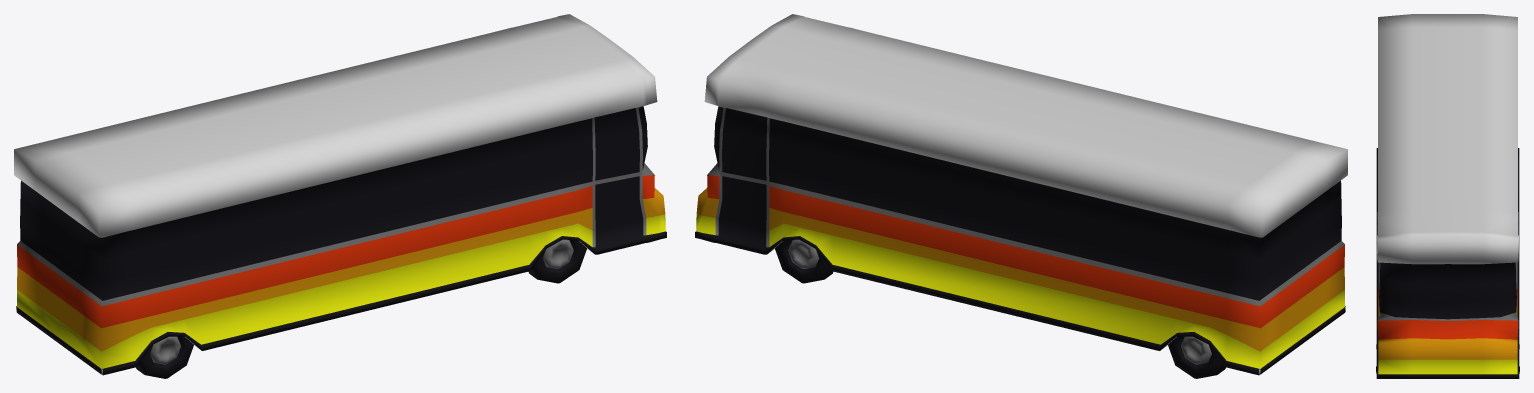
File: Bus.fbx
3 renders of one model, left to right at view 1: azimuth 30°, elevation 25°; view 2: azimuth 150°, elevation 25°; view 3: azimuth 270°, elevation 25°, orthographic. The views are drawn at different scales.
Parts seen in each view (by area): view 1: Cube; view 2: Cube; view 3: Cube.
Boxes of the visible parts, left/top/right/bottom form: Cube: left=14, top=14, right=666, bottom=378; Cube: left=695, top=14, right=1347, bottom=378; Cube: left=1376, top=14, right=1519, bottom=378.
Size of the model in its own units: 25.69 by 8.3 by 6.87.
